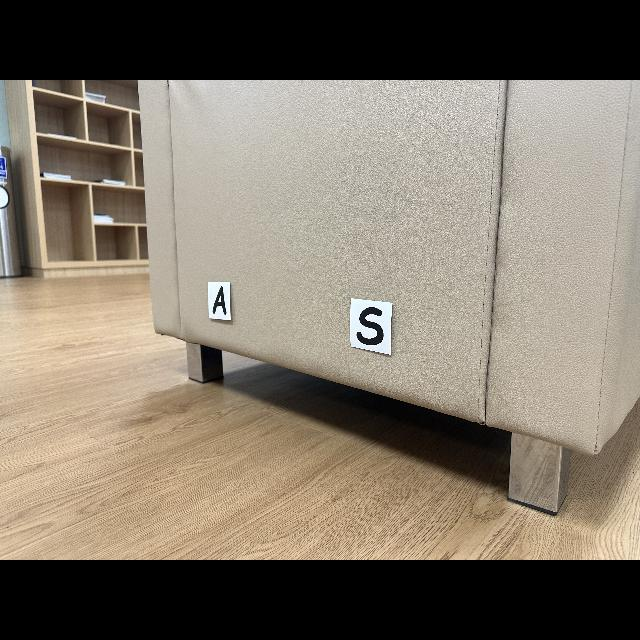A: (212, 286, 226, 315)
S: (356, 308, 384, 345)
